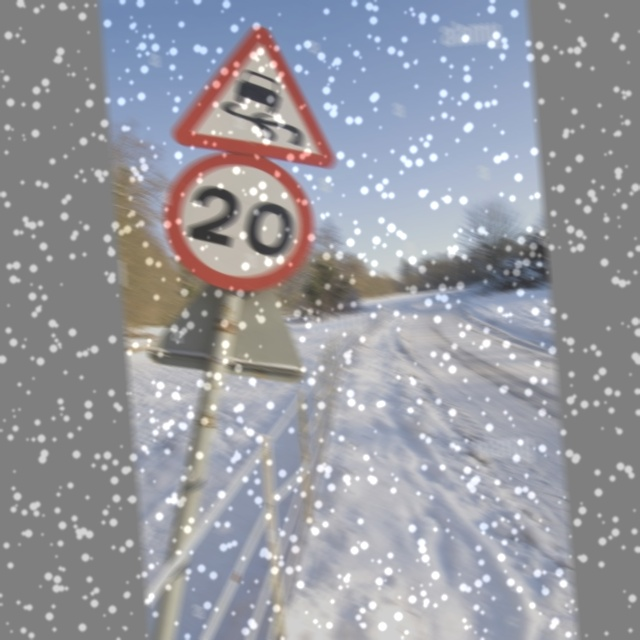Slippery_Road: (166, 20, 340, 170)
